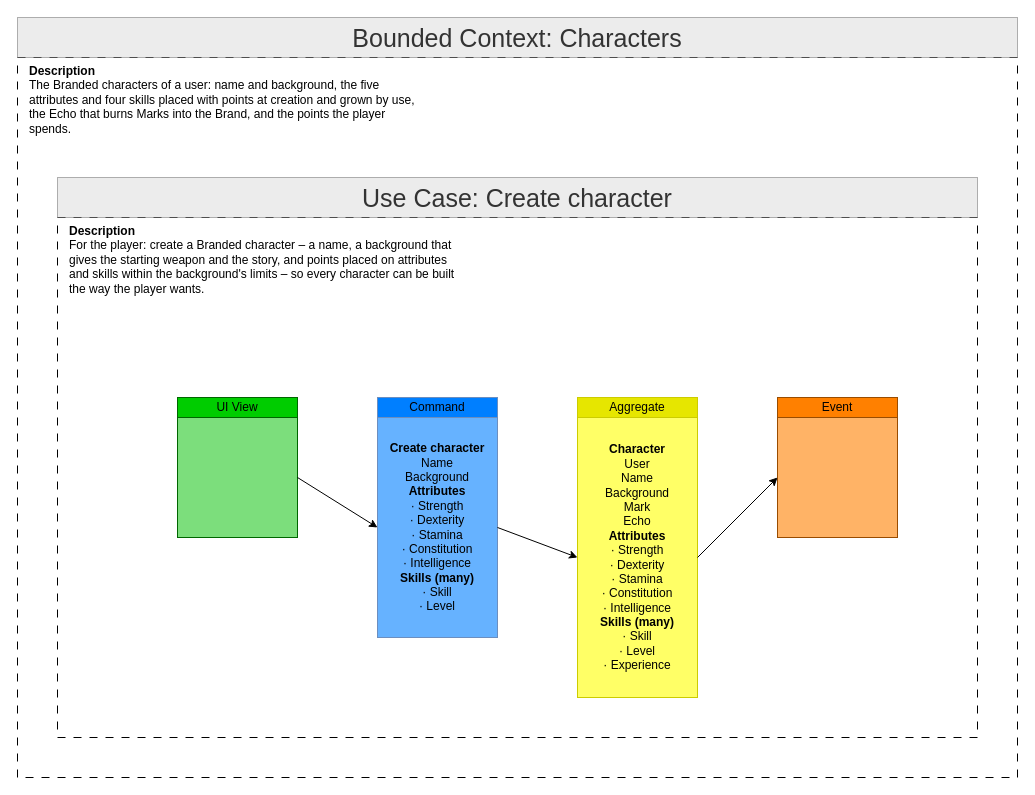
The diagram is 1035 pixels wide and 795 high, and some of its shapes have lost their labels. The shapes that lost their labels are listed below. From the top down, each one's centre as x and y in pixels, then its label:
(x=237, y=477): Create character Player
(x=837, y=477): Character created
